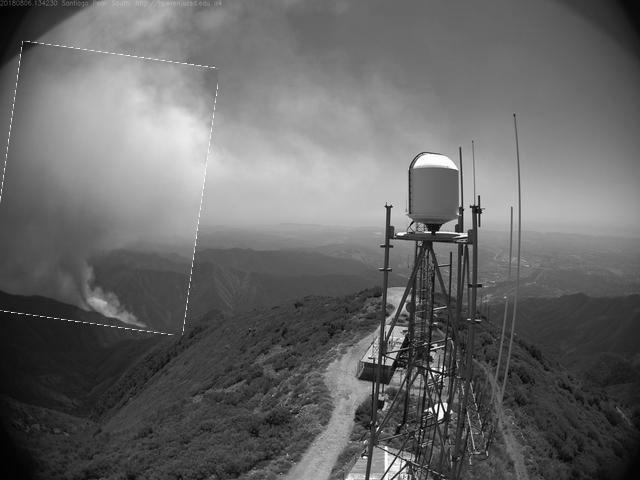smoke: (1, 48, 211, 332)
